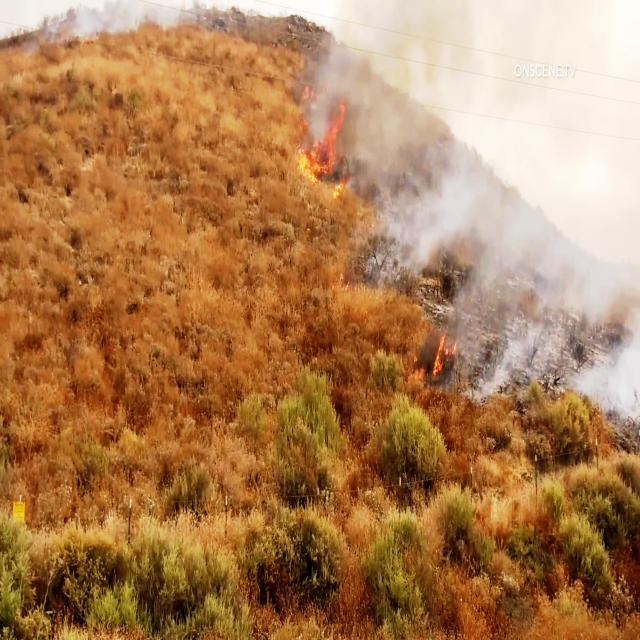Fire: (298, 99, 348, 182), (432, 332, 460, 377)
Smoke: (352, 109, 640, 315), (318, 8, 640, 99), (465, 323, 640, 412), (1, 2, 211, 40)
